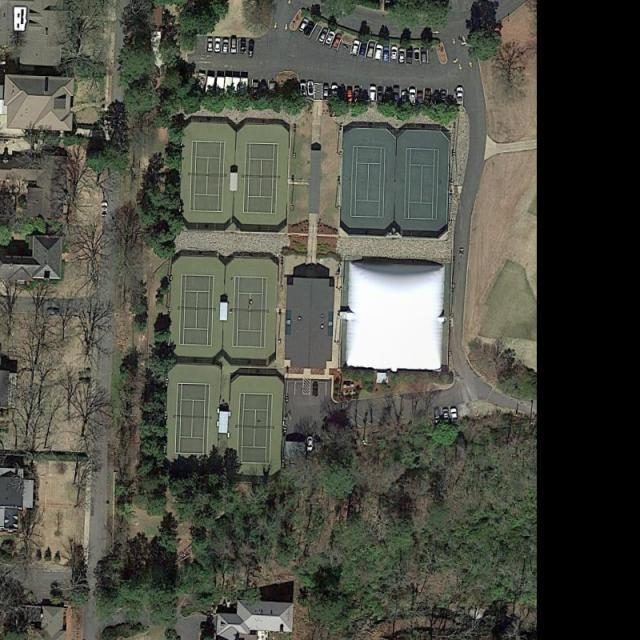vehicle: (303, 21, 315, 37), (298, 17, 310, 33), (450, 406, 460, 425), (350, 40, 361, 56), (332, 34, 343, 50), (325, 30, 336, 46), (318, 27, 329, 43), (252, 80, 261, 99), (431, 89, 441, 105), (269, 82, 278, 99), (374, 43, 383, 60), (384, 86, 393, 103), (261, 80, 269, 99), (457, 87, 465, 106), (366, 42, 375, 58), (354, 86, 362, 104), (400, 87, 409, 103), (101, 202, 110, 218), (409, 89, 417, 106), (330, 84, 338, 101), (346, 86, 354, 103), (442, 406, 450, 423), (230, 38, 238, 54), (222, 38, 230, 54), (359, 42, 368, 56), (248, 40, 255, 58), (434, 406, 441, 424), (214, 38, 222, 53), (417, 90, 425, 105), (306, 436, 314, 451), (406, 47, 413, 64), (383, 46, 390, 63), (300, 80, 307, 97), (391, 46, 398, 62), (370, 86, 377, 102), (308, 81, 315, 97), (393, 86, 400, 102), (441, 90, 448, 105), (399, 48, 406, 62), (207, 38, 214, 52), (425, 89, 432, 103), (240, 38, 246, 54), (422, 48, 428, 63), (312, 382, 318, 397), (414, 49, 421, 61), (324, 83, 330, 97), (378, 87, 383, 102), (383, 1, 391, 5)
